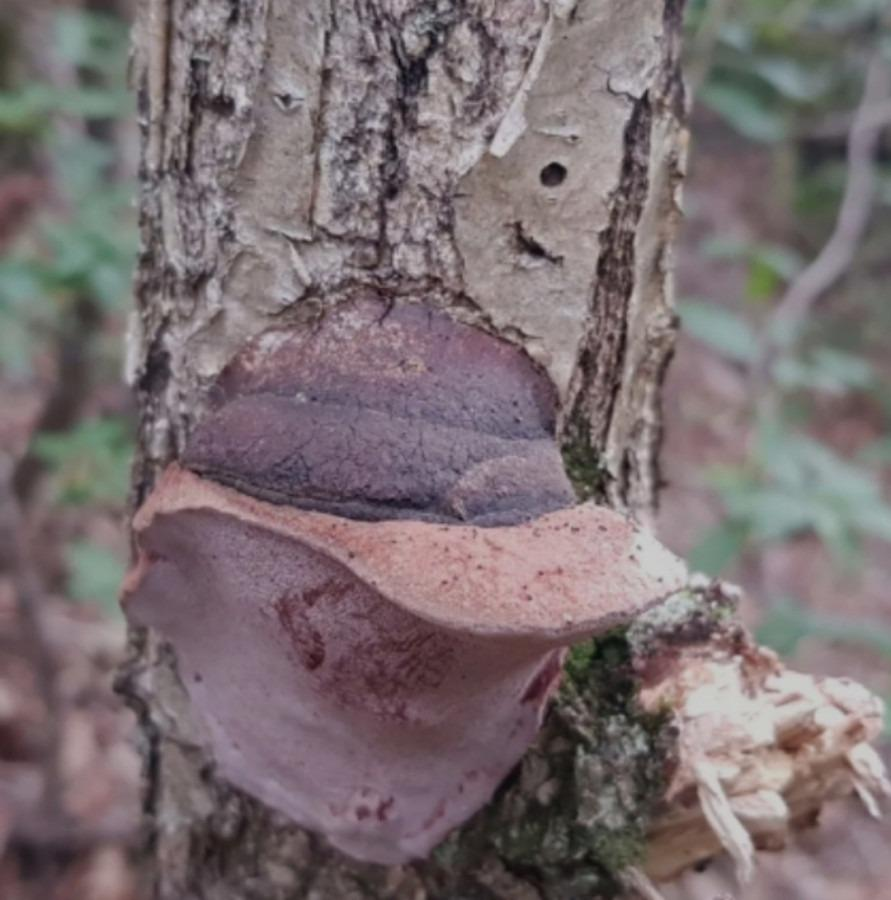Plum tinder fungus: (104, 267, 717, 843)
